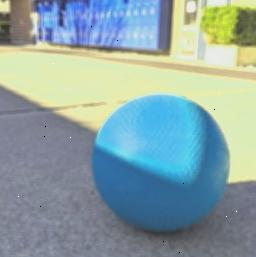algae: (95, 90, 230, 235)
